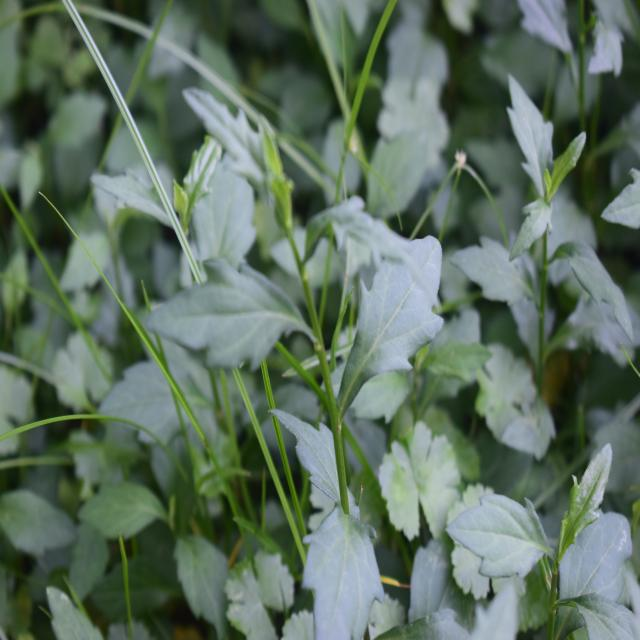Indian aster: (185, 102, 452, 608)
